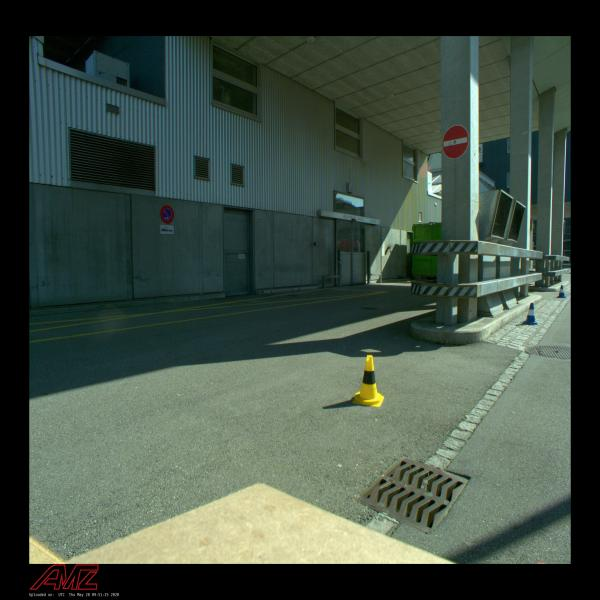blue_cone: (522, 302, 538, 326), (556, 285, 566, 298)
yellow_cone: (352, 355, 384, 407)
